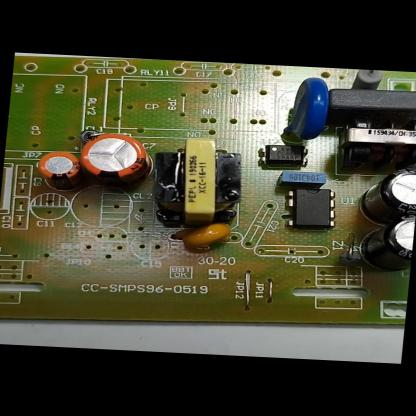Cap1: (76, 128, 155, 190)
Cap2: (32, 146, 90, 193)
Cap3: (354, 162, 416, 227)
Cap4: (350, 207, 416, 275)
MOSFET: (282, 182, 341, 232)
Mov: (278, 72, 336, 148)
Resistor: (348, 69, 389, 91)
Transformer: (147, 132, 248, 232), (331, 112, 416, 175)
